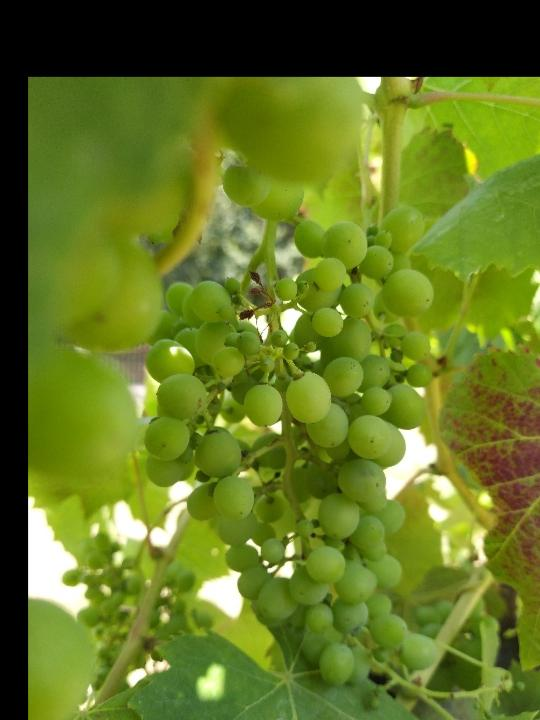grape: (134, 200, 439, 710)
